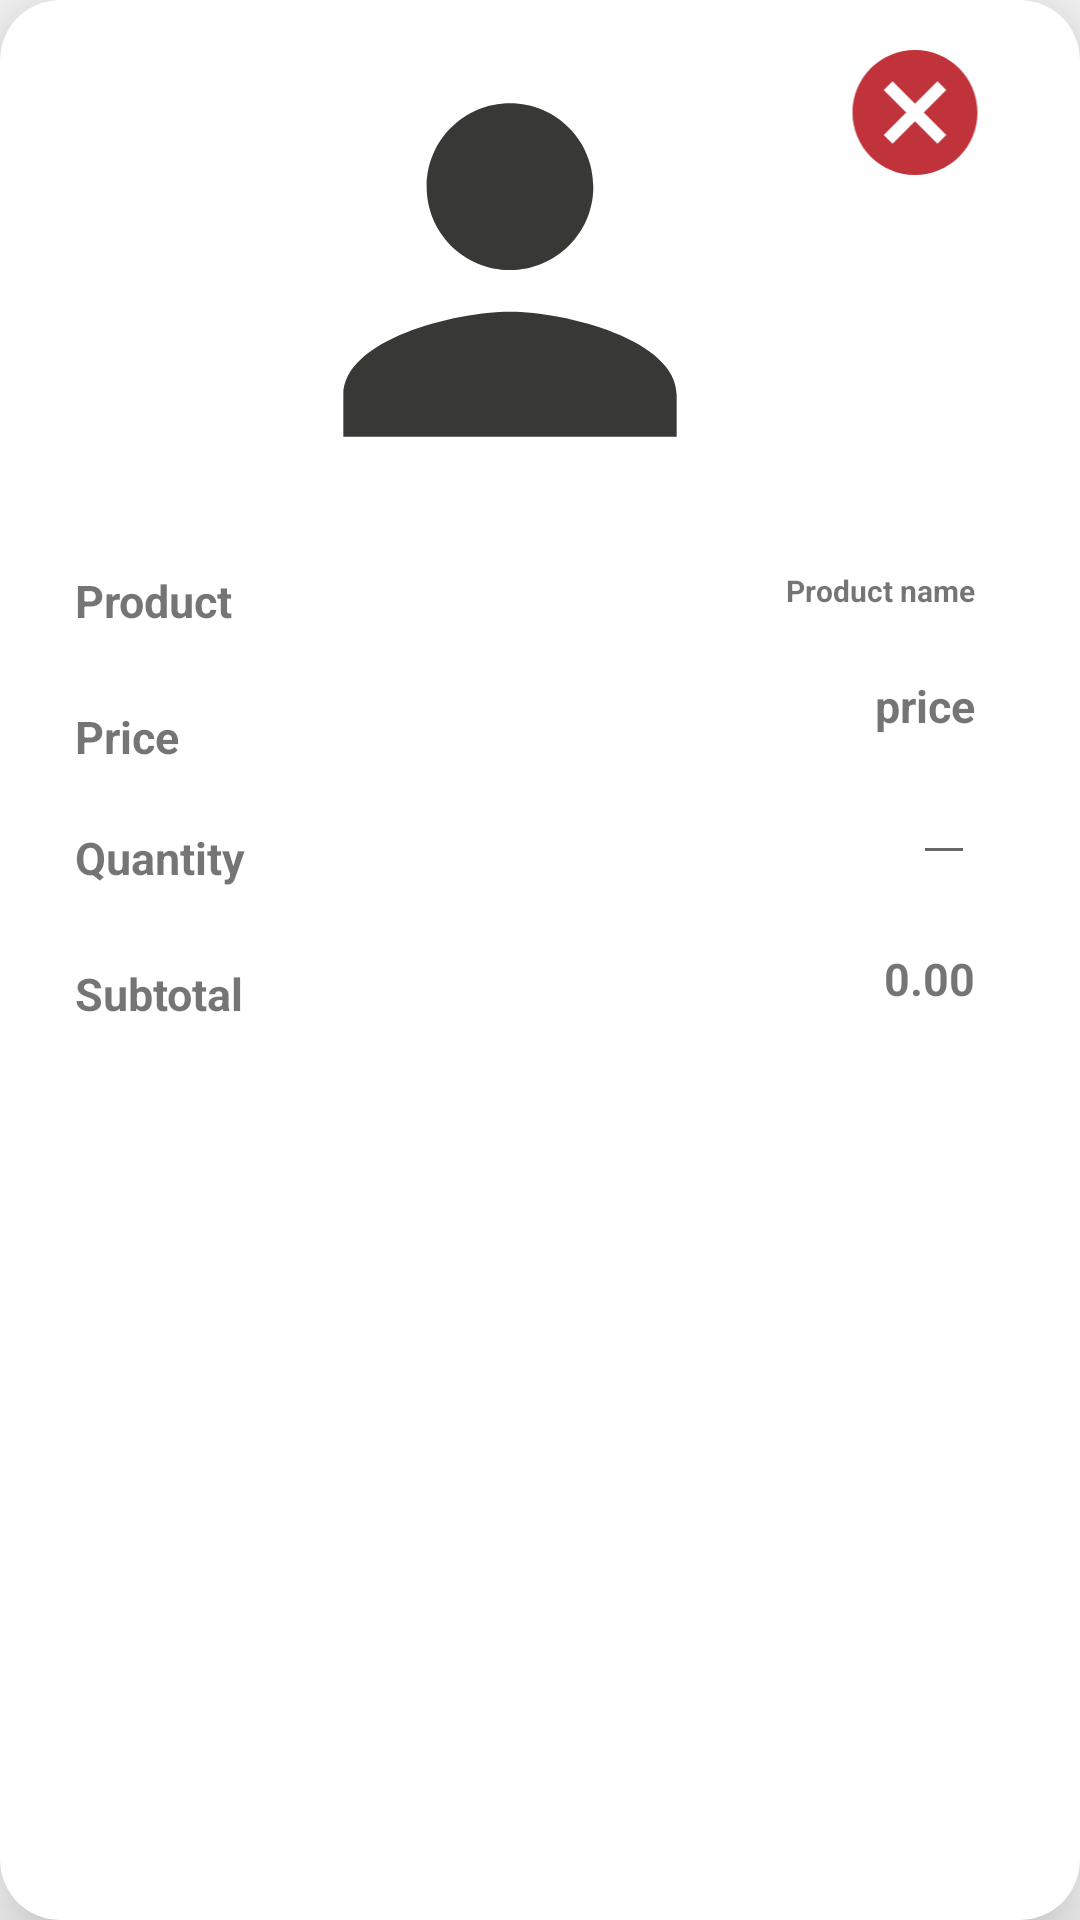

Screen size 1080px x 1920px. Icon name, then its center in pixels as (x=x, y=y):
cancel: (x=915, y=112)
person: (x=510, y=270)
